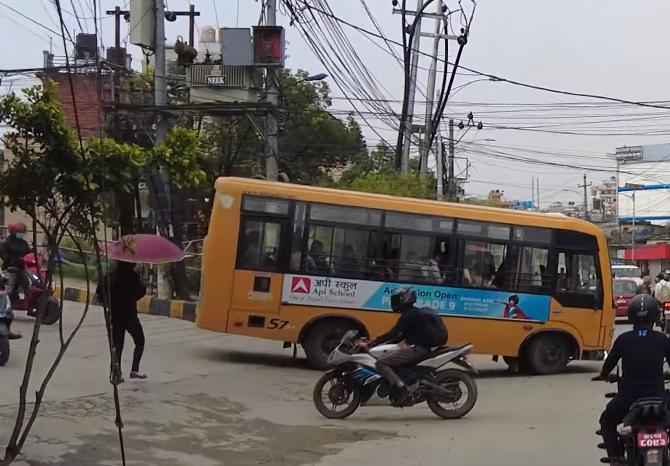bike: (310, 331, 486, 429), (591, 350, 670, 466)
school_bus: (191, 171, 625, 384)
